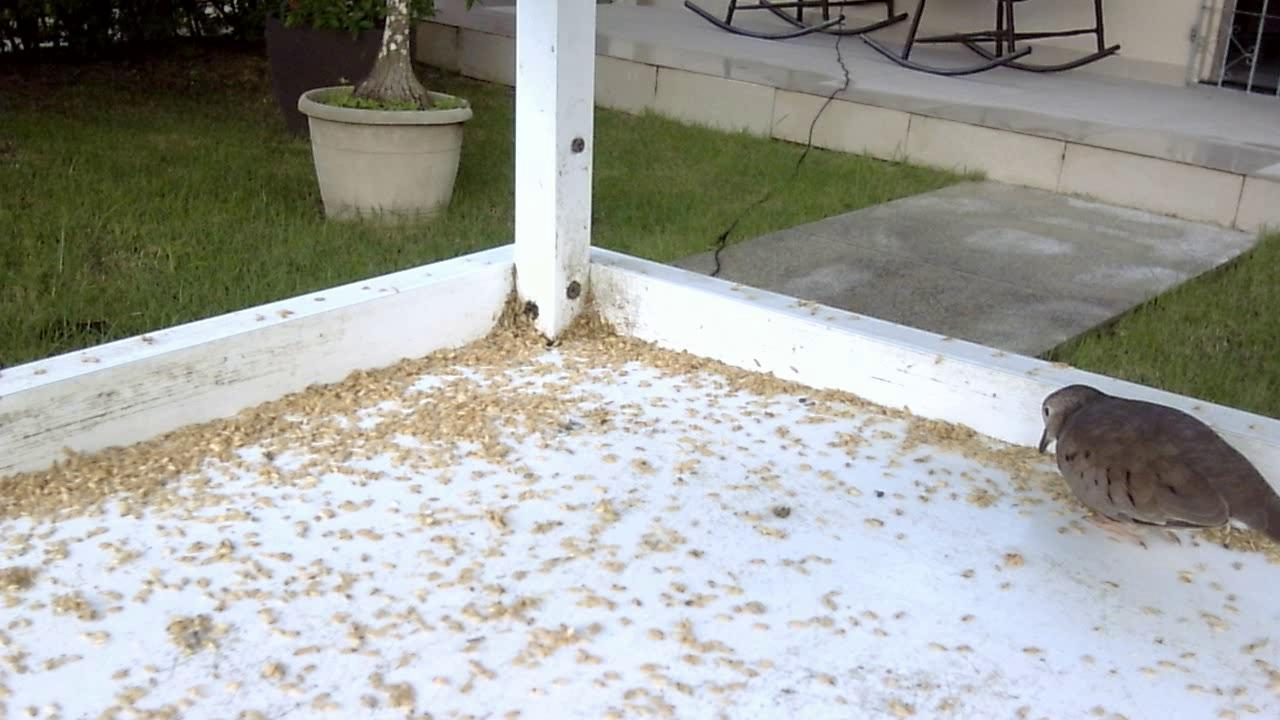rolinha: (1024, 373, 1276, 565)
